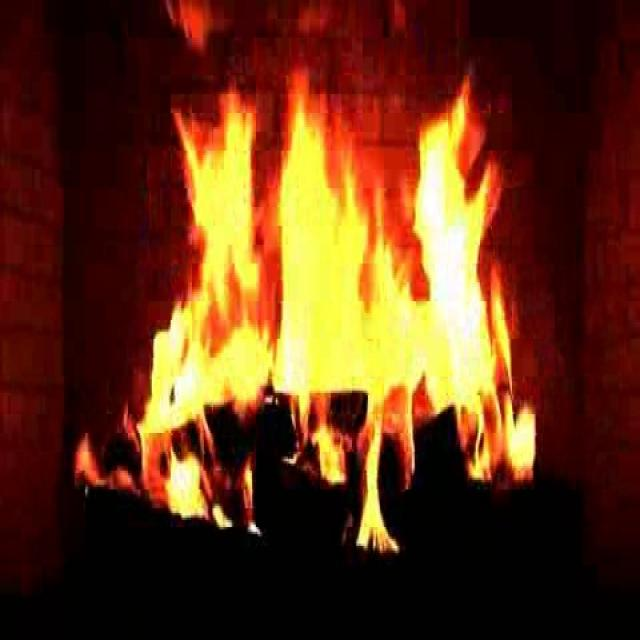fire: (114, 69, 534, 534)
